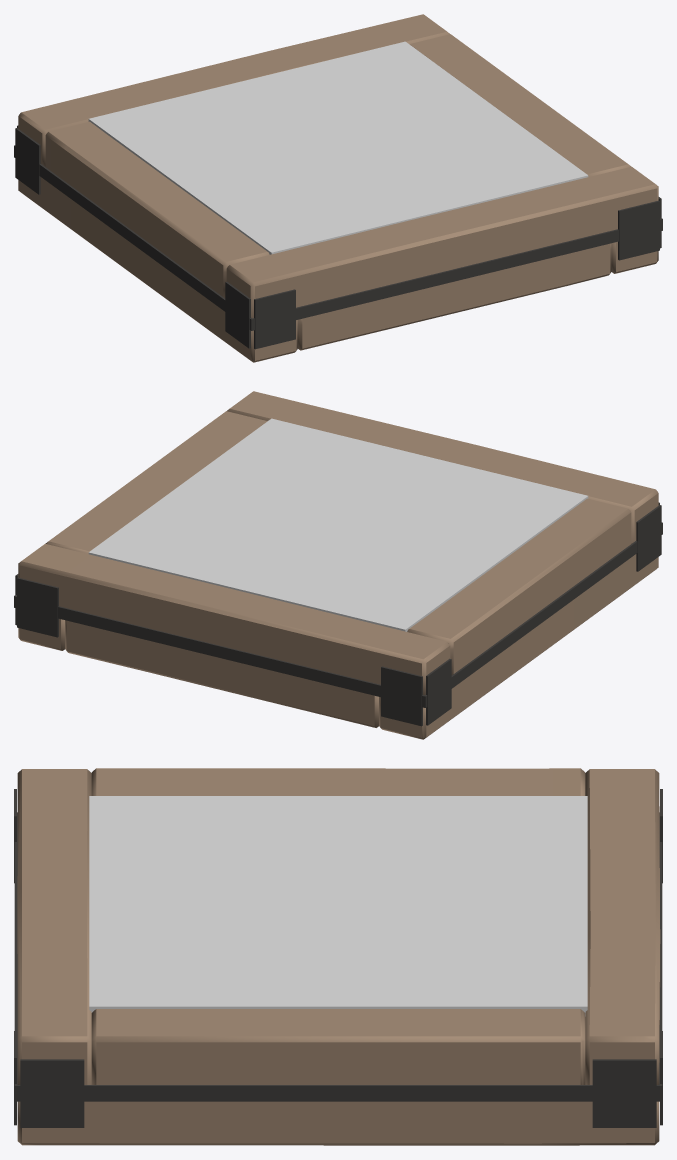
File: Kit_RealTower_R0.fbx
3 renders of one model, top to bottom at view 1: azimuth 30°, elevation 25°; view 2: azimuth 150°, elevation 25°; view 3: azimuth 270°, elevation 25°, orthographic. The views are drawn at different scales.
Visible parts, largest first — view 1: Kit_RealTower_R0_LOD0; view 2: Kit_RealTower_R0_LOD0; view 3: Kit_RealTower_R0_LOD0.
Boxes of the visible parts, left/top/right/bottom form: Kit_RealTower_R0_LOD0: left=14, top=14, right=662, bottom=362; Kit_RealTower_R0_LOD0: left=14, top=391, right=662, bottom=739; Kit_RealTower_R0_LOD0: left=14, top=768, right=662, bottom=1145.
Size of what is drawn, in the model's own units: 2.63 by 0.497 by 2.63.
